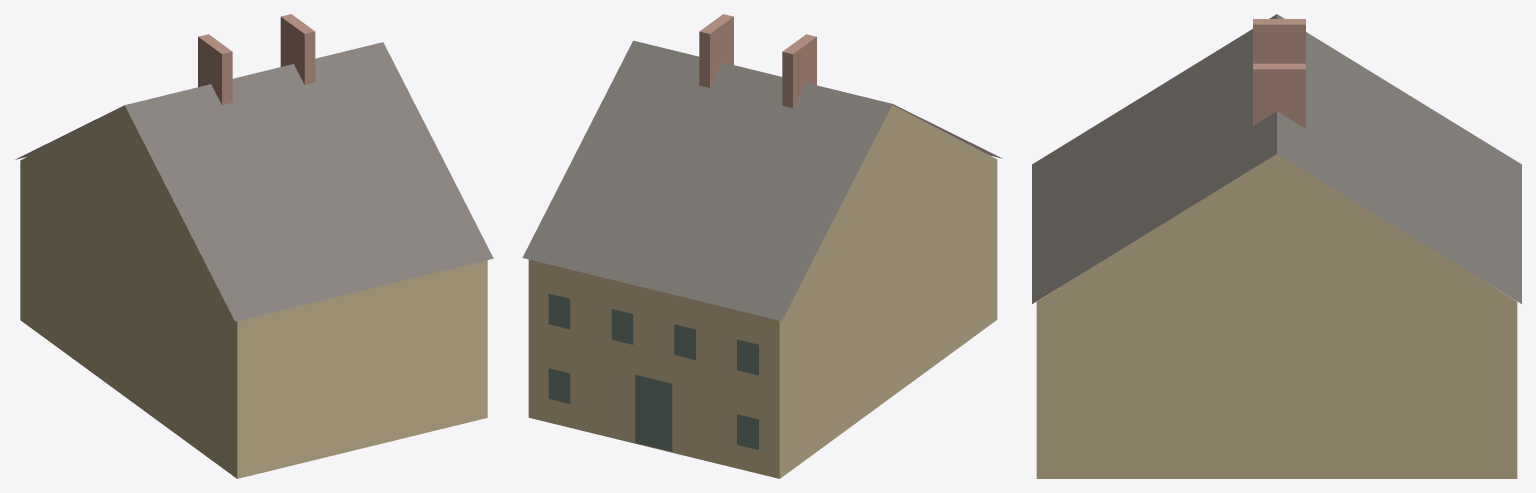
File: recon_1835_north_h2_030__recommended_1835.glb
3 views of the same model, side by side, from view 1: azimuth 30°, elevation 25°; view 2: azimuth 150°, elevation 25°; view 3: azimuth 270°, elevation 25° (orthographic). The views are drawn at different scales.
Parts seen in each view (by area): view 1: recon_1835_north_h2_030__recommended_1835; view 2: recon_1835_north_h2_030__recommended_1835; view 3: recon_1835_north_h2_030__recommended_1835.
Part boxes in pixels (<box>): recon_1835_north_h2_030__recommended_1835: <box>15,14,493,478</box>; recon_1835_north_h2_030__recommended_1835: <box>522,14,1002,478</box>; recon_1835_north_h2_030__recommended_1835: <box>1032,14,1521,478</box>.
Size of the model in its own units: 8.81 by 10.85 by 13.04.
